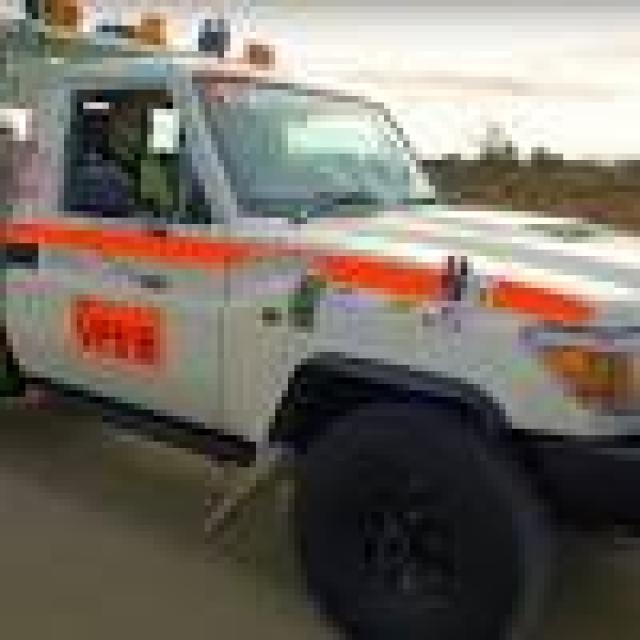light_vehicle: (6, 6, 628, 634)
